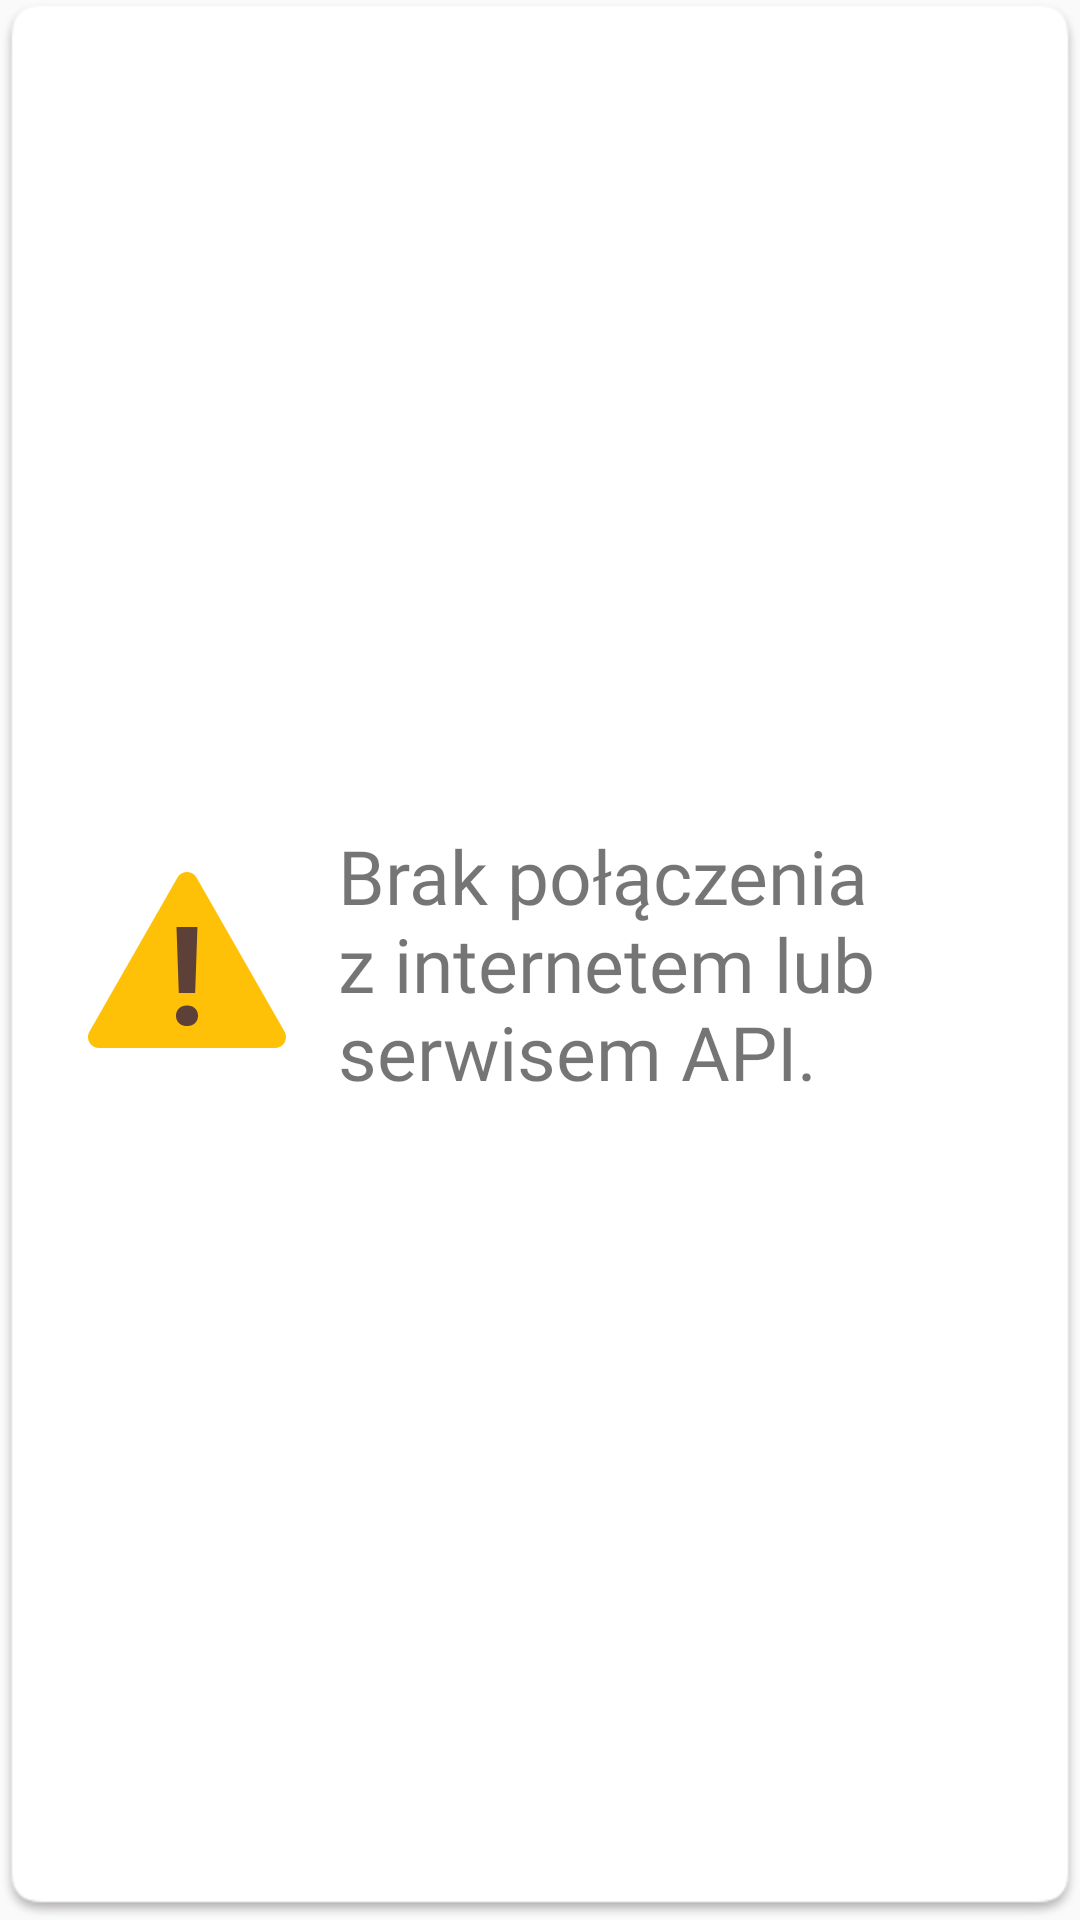

Where to tap for icons on this 1080×1920 app screen, as [x,y]:
error: [187,960]
